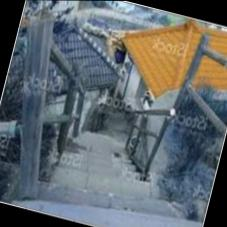Animal: (32, 142, 176, 227)
